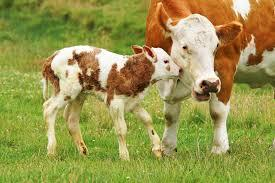cow: (145, 0, 275, 157), (43, 45, 183, 162)
